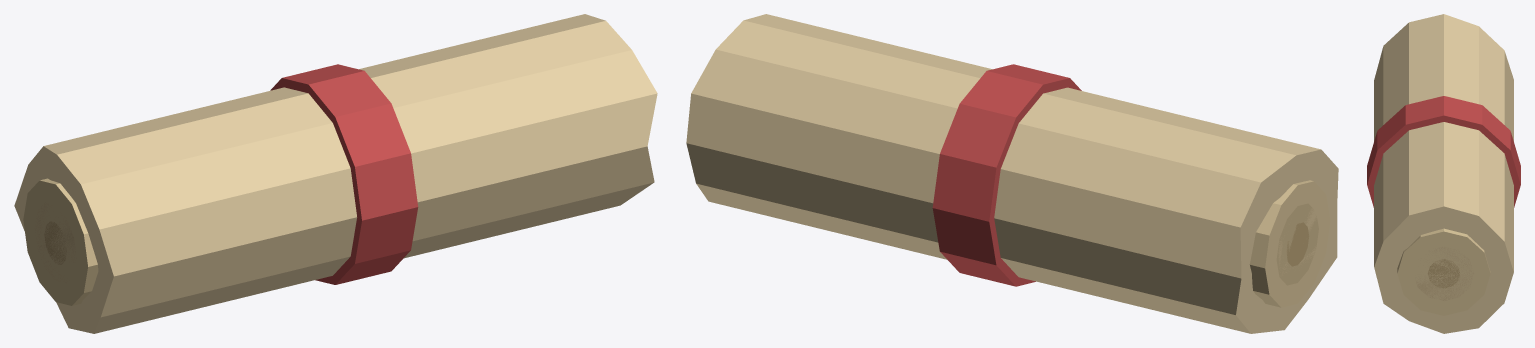
File: Scroll_Tied.fbx
3 renders of one model, left to right at view 1: azimuth 30°, elevation 25°; view 2: azimuth 150°, elevation 25°; view 3: azimuth 270°, elevation 25°, orthographic. The views are drawn at different scales.
Visible parts, largest first — view 1: Scroll_Roll, Scroll_Tie, Scroll_Layer_2, Scroll_Core, Scroll_Layer_3; view 2: Scroll_Roll, Scroll_Tie, Scroll_Layer_2, Scroll_Layer_3, Scroll_Core; view 3: Scroll_Roll, Scroll_Layer_2, Scroll_Tie, Scroll_Layer_3, Scroll_Core.
Part boxes in pixels (<box>): Scroll_Roll: <box>14,14,657,333</box>; Scroll_Tie: <box>270,64,418,284</box>; Scroll_Layer_2: <box>23,178,98,305</box>; Scroll_Core: <box>44,221,66,264</box>; Scroll_Layer_3: <box>35,202,76,282</box>; Scroll_Roll: <box>686,14,1338,333</box>; Scroll_Tie: <box>932,64,1081,286</box>; Scroll_Layer_2: <box>1249,180,1330,307</box>; Scroll_Layer_3: <box>1276,203,1318,285</box>; Scroll_Core: <box>1286,222,1309,266</box>; Scroll_Roll: <box>1374,14,1513,333</box>; Scroll_Layer_2: <box>1397,228,1490,315</box>; Scroll_Tie: <box>1367,96,1520,207</box>; Scroll_Layer_3: <box>1415,247,1473,300</box>; Scroll_Core: <box>1427,259,1459,288</box>.
Bounding box in the file's own units: 200 × 66 × 66.
